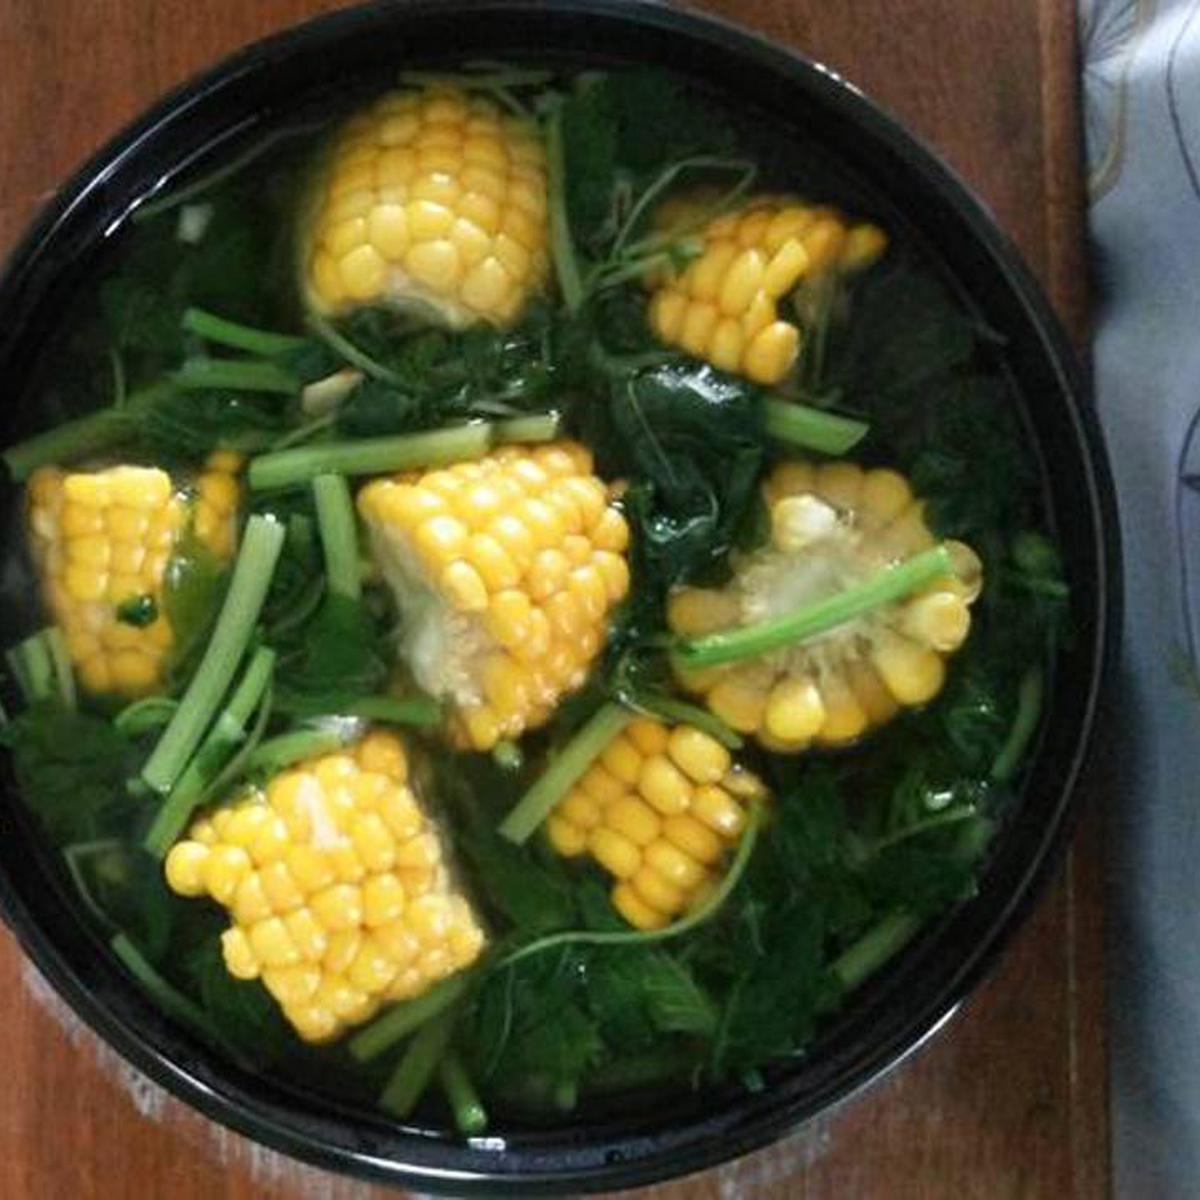Sayur Bayam: (16, 108, 1066, 1177)
